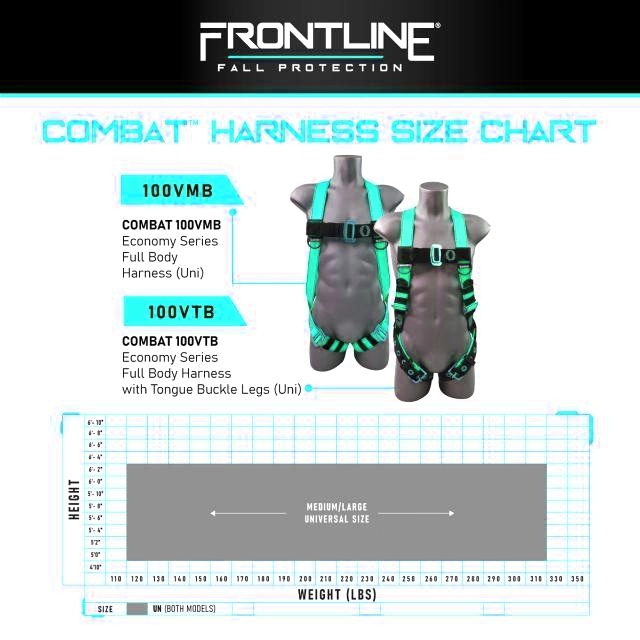safety belt: (296, 180, 390, 358), (403, 209, 477, 386)
